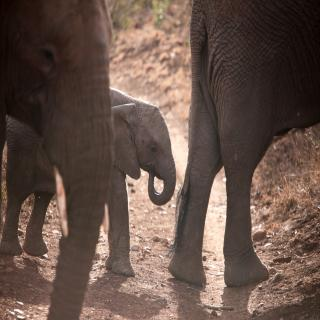Elephant: (0, 67, 176, 290)
